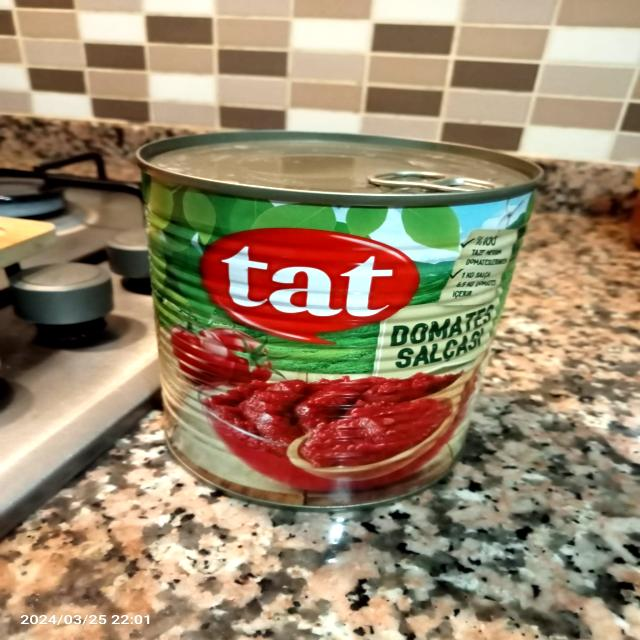tomato paste: (134, 139, 516, 499)
